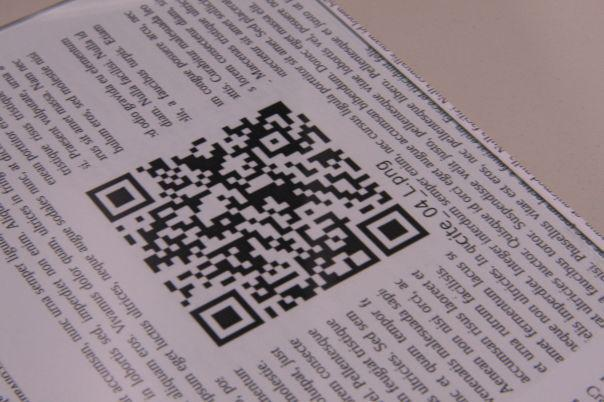Finder pattern: (189, 291, 264, 345), (85, 172, 156, 227), (358, 203, 430, 256)
